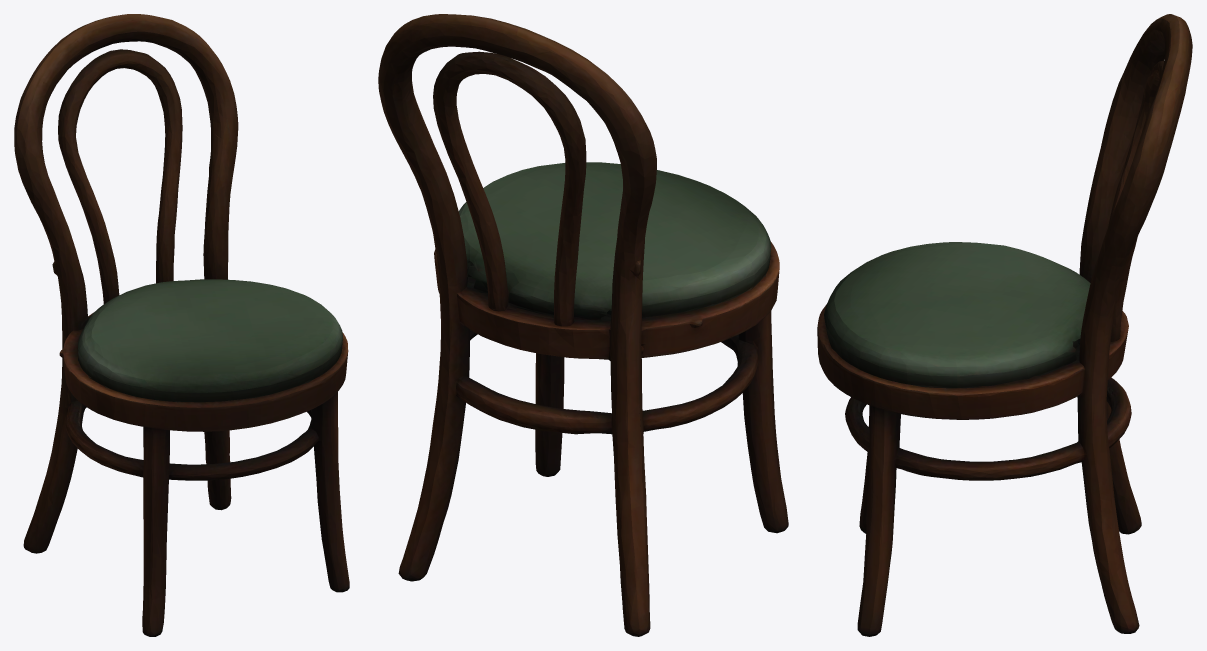
Rendered from item_chair_1.glb.
3 views of the same model, side by side, from view 1: azimuth 30°, elevation 25°; view 2: azimuth 150°, elevation 25°; view 3: azimuth 270°, elevation 25° (orthographic). The views are drawn at different scales.
Visible parts, largest first — view 1: geometry_0; view 2: geometry_0; view 3: geometry_0.
Part boxes in pixels (x1,y1,x2,y2): geometry_0: (14,14,349,636); geometry_0: (378,14,788,636); geometry_0: (817,14,1192,636).
Size of the model in its own units: 0.5307 by 0.9985 by 0.6152.
Materials: 1 (1 with a texture image).
